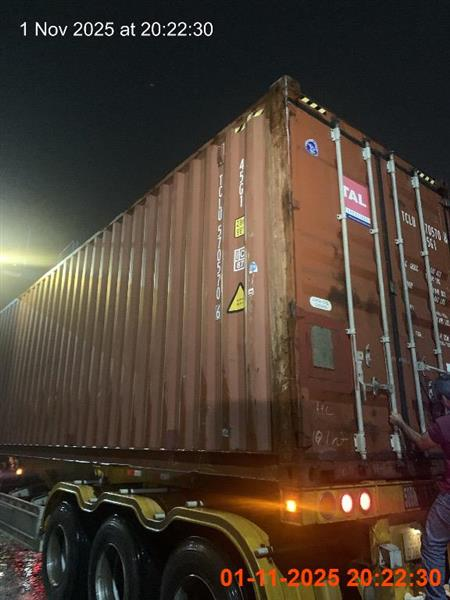dent: (1, 76, 449, 599), (389, 377, 449, 599)
